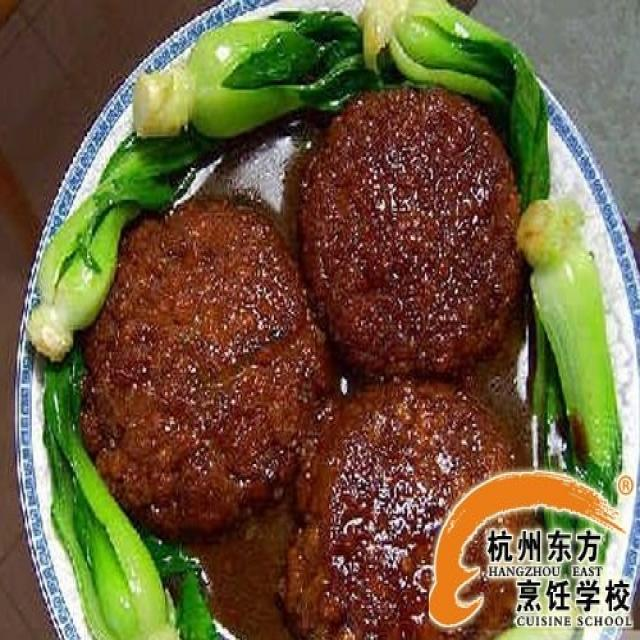Meatball: (70, 198, 334, 524), (289, 85, 531, 381)
